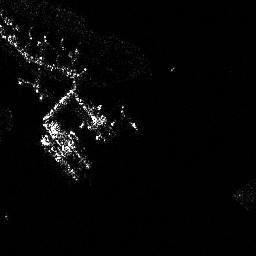ship: (39, 132, 78, 180)
